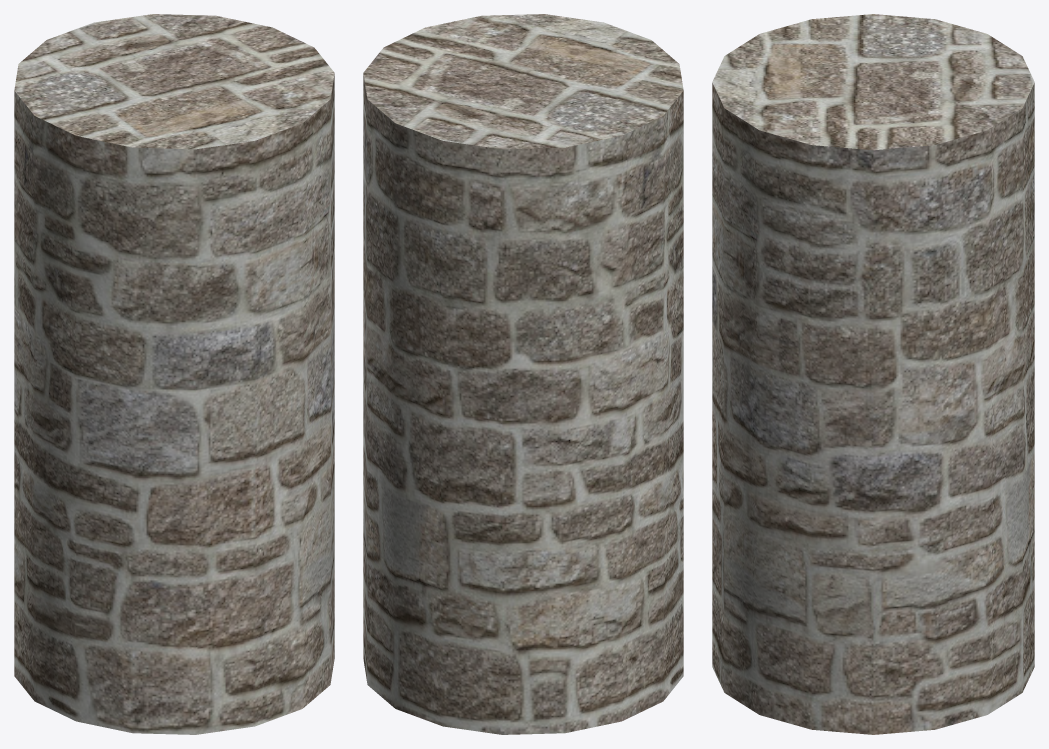
Rendered from wall_column.obj.
3 renders of one model, left to right at view 1: azimuth 30°, elevation 25°; view 2: azimuth 150°, elevation 25°; view 3: azimuth 270°, elevation 25°, orthographic.
Size of the model in its own units: 1 by 2 by 1.
1 material, 1 textured.
